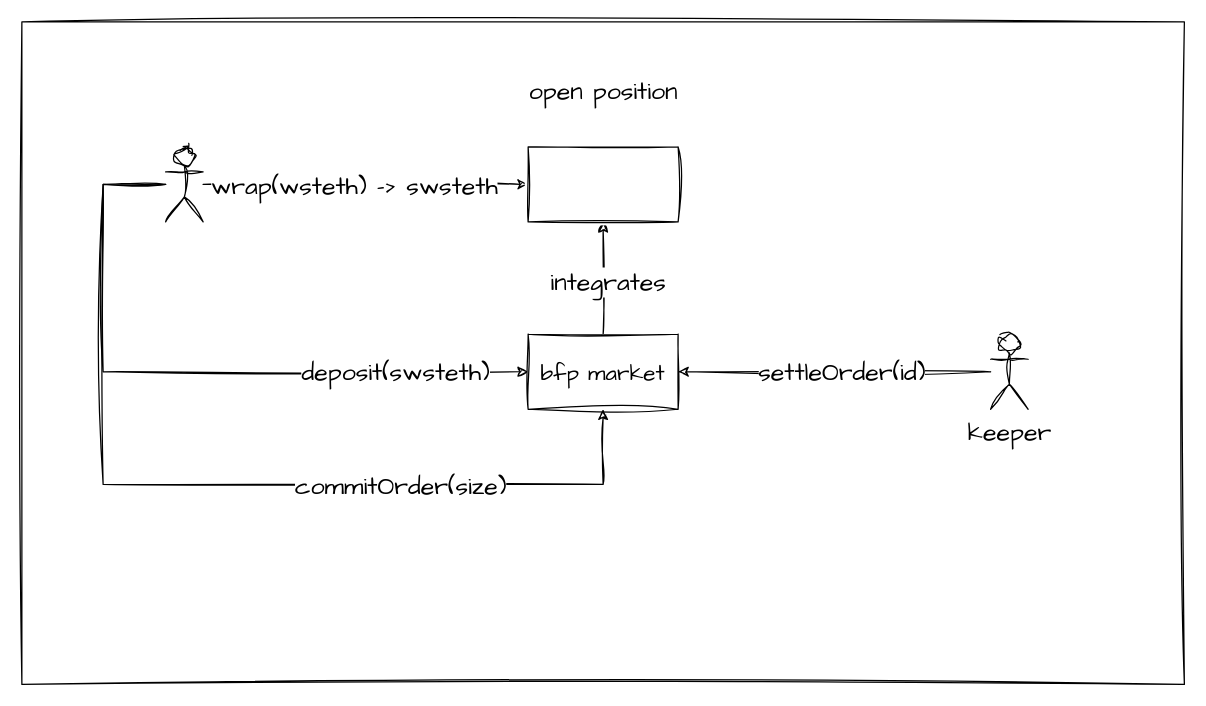
Some shapes in this 1206 by 706 pixel diagram are drawn without their labels. The shapes that lost their labels are listed below. From the top down, each one's centre as x and y in pixels, then its label:
the point at 183,184: trader
the point at 602,184: spot market
